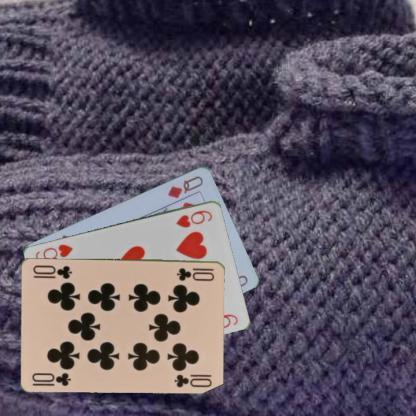10c: (30, 370, 72, 388), (174, 265, 216, 282)
6h: (173, 207, 214, 229)
Qd: (165, 173, 205, 200)
